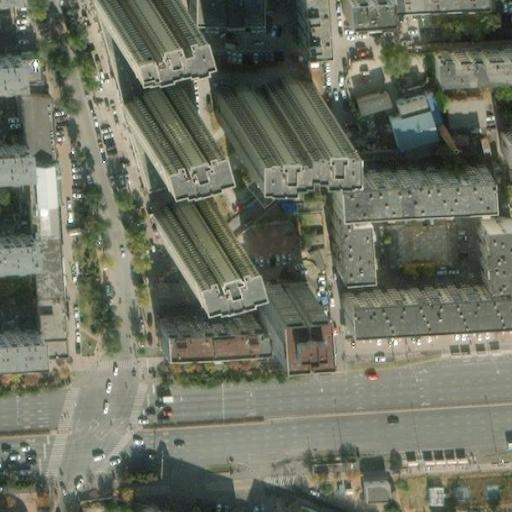building: (334, 212, 502, 320), (17, 93, 58, 355), (320, 166, 474, 206), (155, 311, 258, 345), (143, 194, 209, 238), (110, 79, 175, 123), (381, 102, 431, 155), (421, 50, 512, 77), (247, 275, 295, 326), (321, 205, 355, 268), (203, 85, 256, 121), (254, 82, 306, 113), (380, 81, 419, 112), (347, 87, 384, 111), (362, 477, 392, 504), (0, 232, 25, 260), (490, 125, 512, 155), (127, 491, 158, 512), (500, 267, 512, 313), (0, 141, 18, 170), (428, 484, 447, 507), (500, 154, 512, 188), (153, 501, 186, 512), (0, 54, 12, 82)
